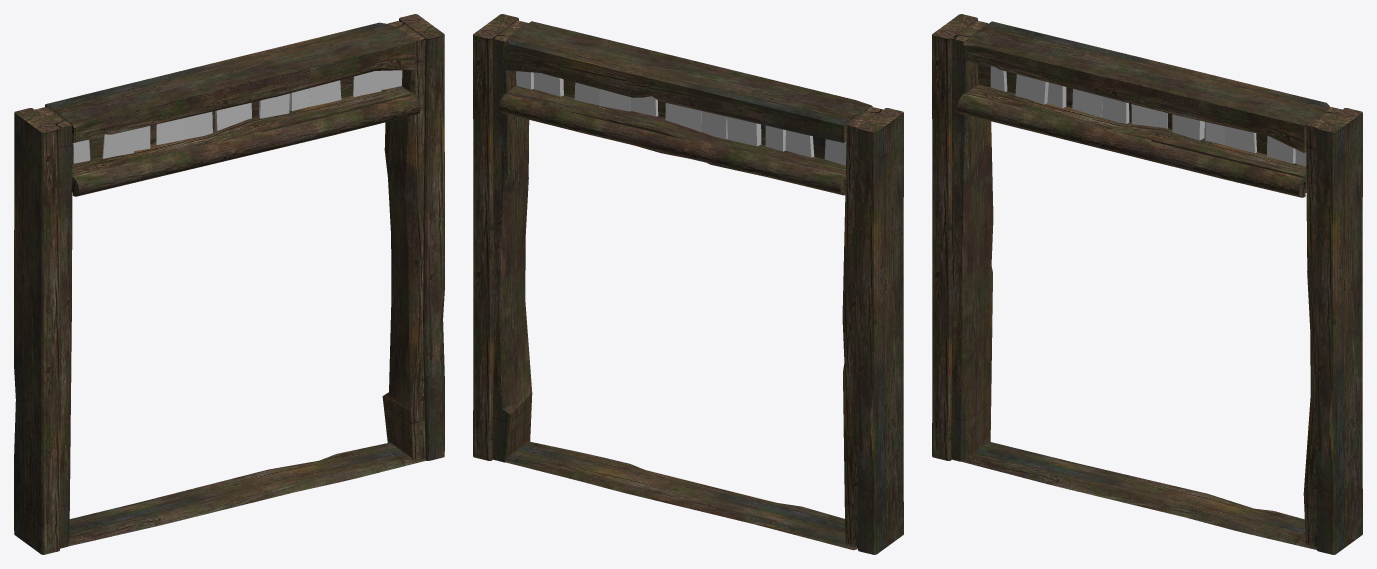
3 views of the same model, side by side, from view 1: azimuth 30°, elevation 25°; view 2: azimuth 150°, elevation 25°; view 3: azimuth 330°, elevation 25° (orthographic).
Parts seen in each view (by area): view 1: SM_BB_T1_Wall_Doorframe_Double_LOD0; view 2: SM_BB_T1_Wall_Doorframe_Double_LOD0; view 3: SM_BB_T1_Wall_Doorframe_Double_LOD0.
Part boxes in pixels (x1,y1,x2,y2): SM_BB_T1_Wall_Doorframe_Double_LOD0: (14,14,444,554); SM_BB_T1_Wall_Doorframe_Double_LOD0: (473,14,903,554); SM_BB_T1_Wall_Doorframe_Double_LOD0: (932,14,1362,554).
Bounding box in the file's own units: 3 × 3 × 0.4915.
